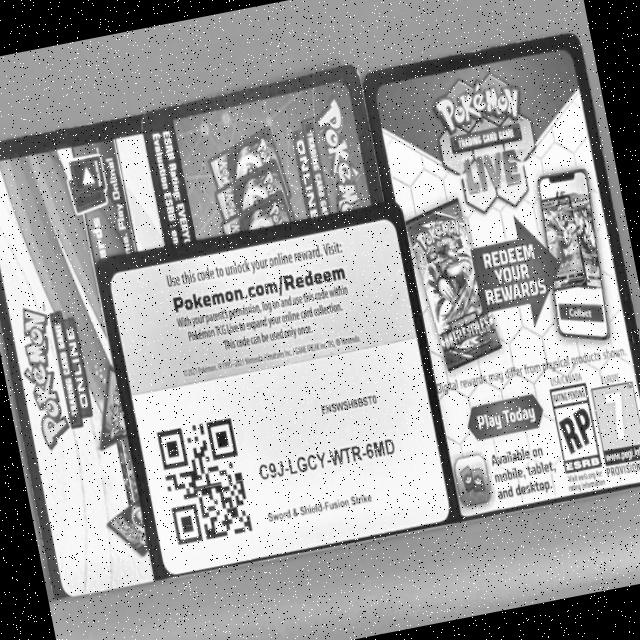QR-codes: (156, 414, 258, 548)
